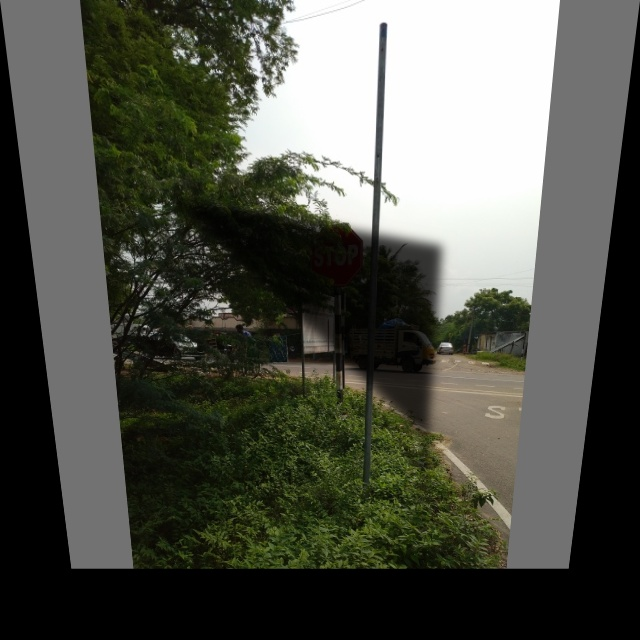Stop: (310, 225, 361, 288)
